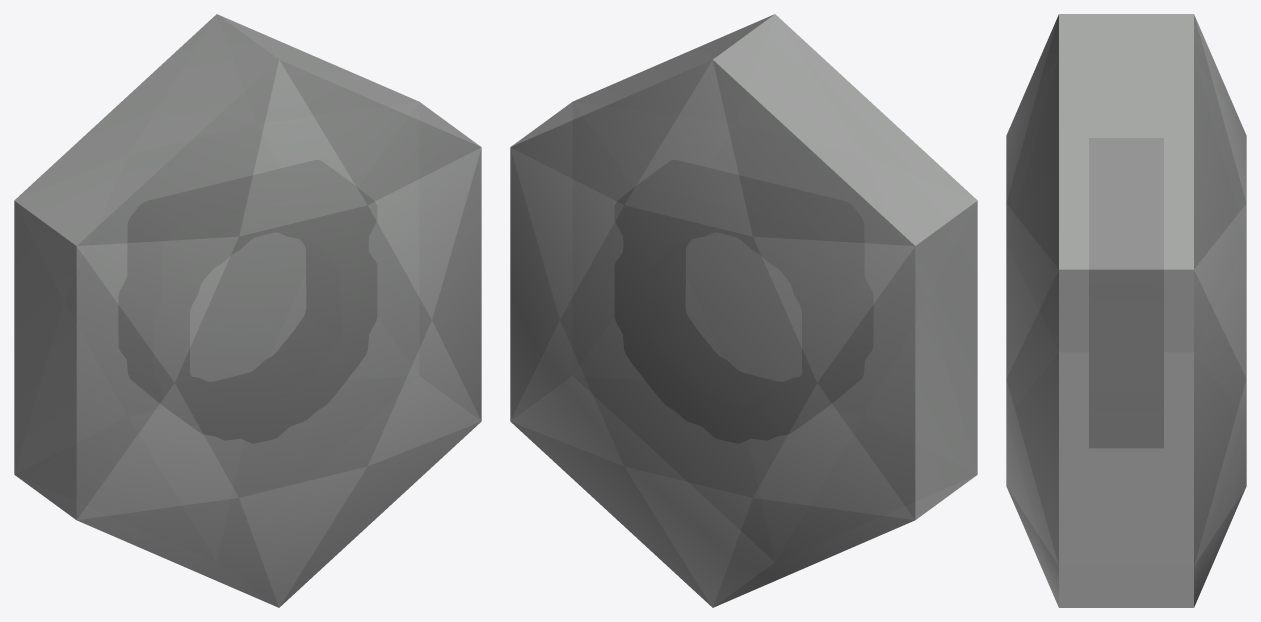
3 renders of one model, left to right at view 1: azimuth 30°, elevation 25°; view 2: azimuth 150°, elevation 25°; view 3: azimuth 270°, elevation 25°, orthographic. The views are drawn at different scales.
Visible parts, largest first — view 1: body; view 2: body; view 3: body.
Part boxes in pixels (x1,y1,x2,y2): body: [14, 14, 481, 607]; body: [510, 14, 977, 607]; body: [1006, 14, 1246, 607].
Bounding box in the file's own units: 0.1933 × 0.25 × 0.0916.
Materials: 2 (2 with a texture image).
